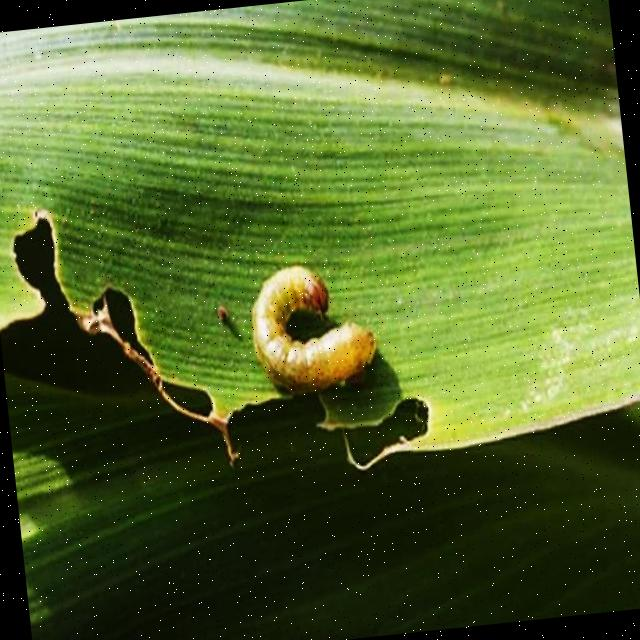worm: (245, 257, 382, 401)
